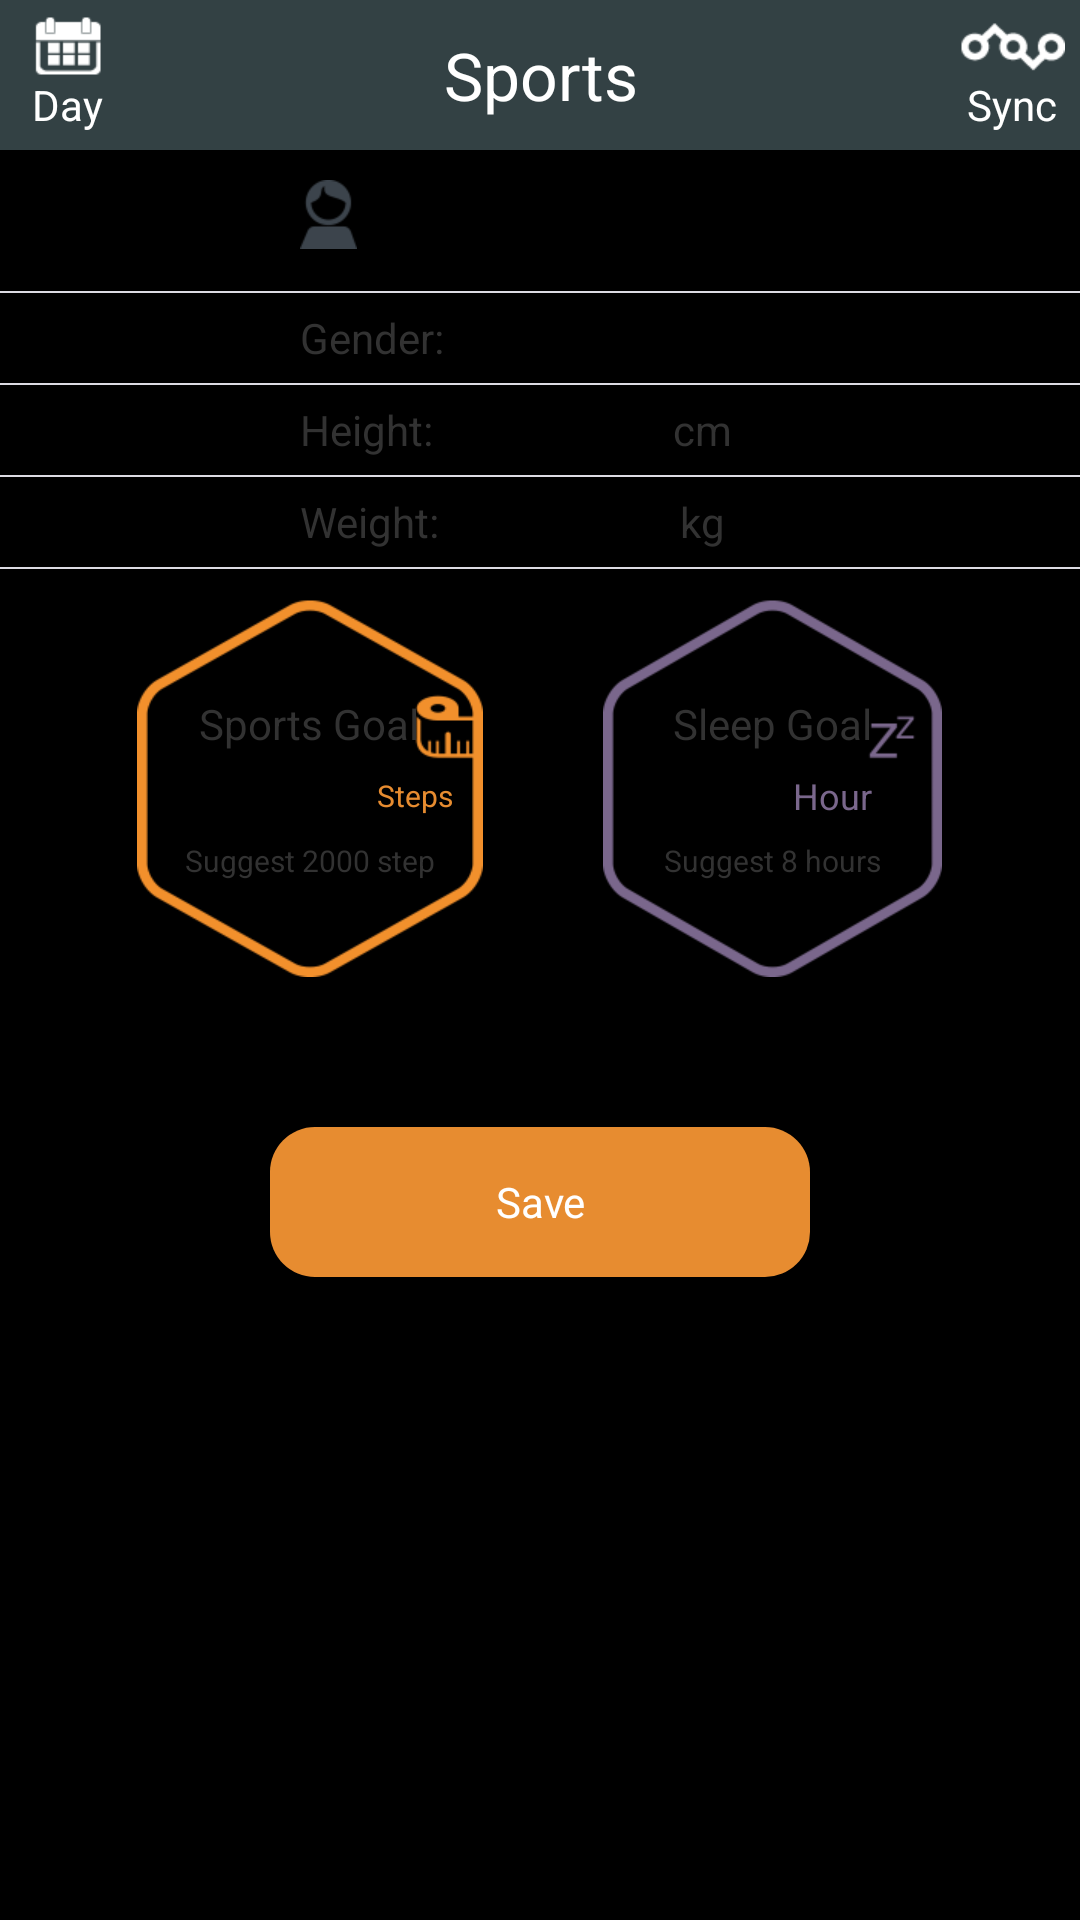

Where to tap for icons on this 1080px×1920px app screen, as (x,y):
data: (68,46)
name setting: (328,214)
